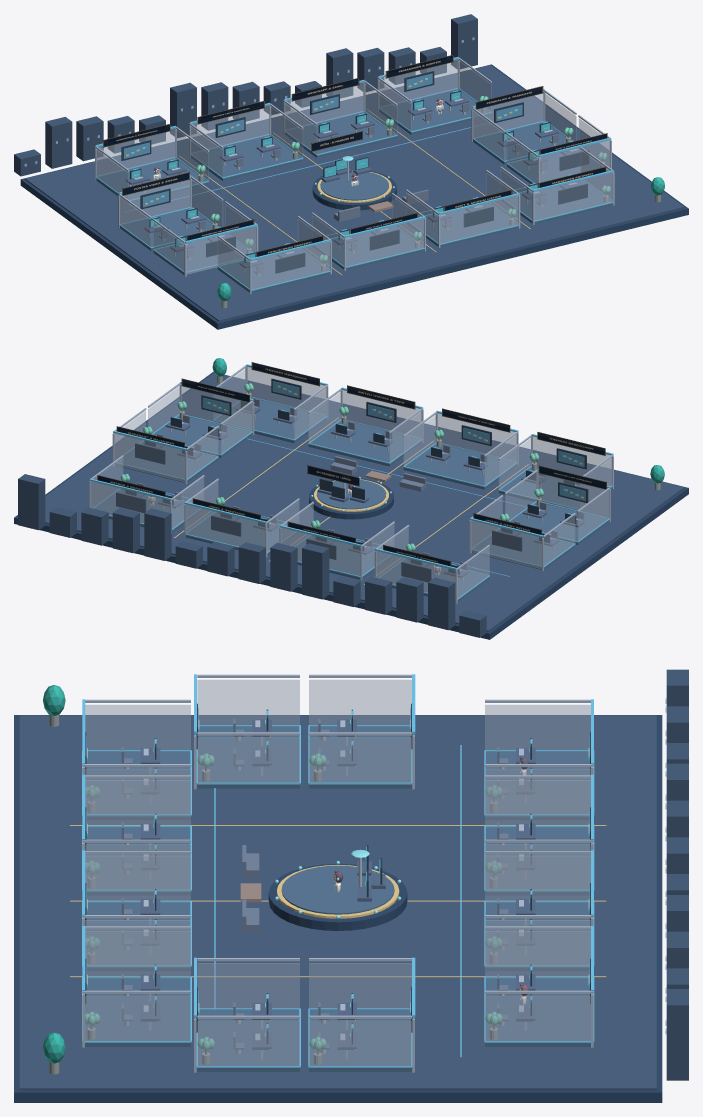
File: propertiguru_ai_office_12_departments_3_characters.glb
3 renders of one model, top to bottom at view 1: azimuth 30°, elevation 25°; view 2: azimuth 150°, elevation 25°; view 3: azimuth 270°, elevation 25°, orthographic. The views are drawn at different scales.
Visible parts, largest first — view 1: office_floor_255, office_glass_85, office_room_255, office_glass_72, office_ink_255, office_plinth_255, office_edge_255, office_steel_255, office_monitor_255, office_desk_255, office_screen_255, office_chair_255 (+10 smaller); view 2: office_floor_255, office_glass_85, office_room_255, office_glass_72, office_ink_255, office_monitor_255, office_edge_255, office_steel_255, office_plinth_255, office_desk_255, office_chair_255, office_screen_255 (+10 smaller); view 3: office_floor_255, office_glass_72, office_room_255, office_plinth_255, office_steel_255, office_edge_255, office_ink_255, office_desk_255, office_chair_255, office_gold_255, office_leaf2_255, office_monitor_255 (+2 smaller).
Boxes of the visible parts, x1,y1,x2,y2 form: office_floor_255: (25, 65, 684, 321); office_glass_85: (97, 59, 613, 289); office_room_255: (96, 89, 613, 293); office_glass_72: (96, 61, 611, 288); office_ink_255: (14, 14, 477, 176); office_plinth_255: (20, 64, 688, 329); office_edge_255: (95, 57, 613, 290); office_steel_255: (95, 58, 614, 293); office_monitor_255: (121, 71, 589, 273); office_desk_255: (125, 96, 582, 268); office_screen_255: (123, 73, 522, 207); office_chair_255: (142, 102, 558, 273); office_floor_255: (45, 373, 684, 631); office_glass_85: (90, 366, 611, 592); office_room_255: (94, 398, 612, 601); office_glass_72: (92, 368, 612, 598); office_ink_255: (18, 474, 486, 637); office_monitor_255: (116, 378, 588, 582); office_edge_255: (89, 364, 612, 600); office_steel_255: (89, 365, 613, 603); office_plinth_255: (14, 372, 688, 639); office_desk_255: (121, 406, 584, 577); office_chair_255: (137, 398, 584, 571); office_screen_255: (202, 381, 585, 501); office_floor_255: (19, 715, 656, 1090); office_glass_72: (85, 679, 590, 1066); office_room_255: (85, 726, 590, 1071); office_plinth_255: (14, 715, 662, 1102); office_steel_255: (82, 674, 593, 1072); office_edge_255: (82, 674, 594, 1067); office_ink_255: (666, 669, 688, 1080); office_desk_255: (140, 719, 535, 1049); office_chair_255: (121, 719, 508, 1049); office_gold_255: (70, 720, 606, 1050); office_leaf2_255: (85, 753, 502, 1050); office_monitor_255: (85, 703, 590, 1044).
Bounding box in the file's own units: 40 × 4.33 × 30.2.
105 materials, 16 textured.
